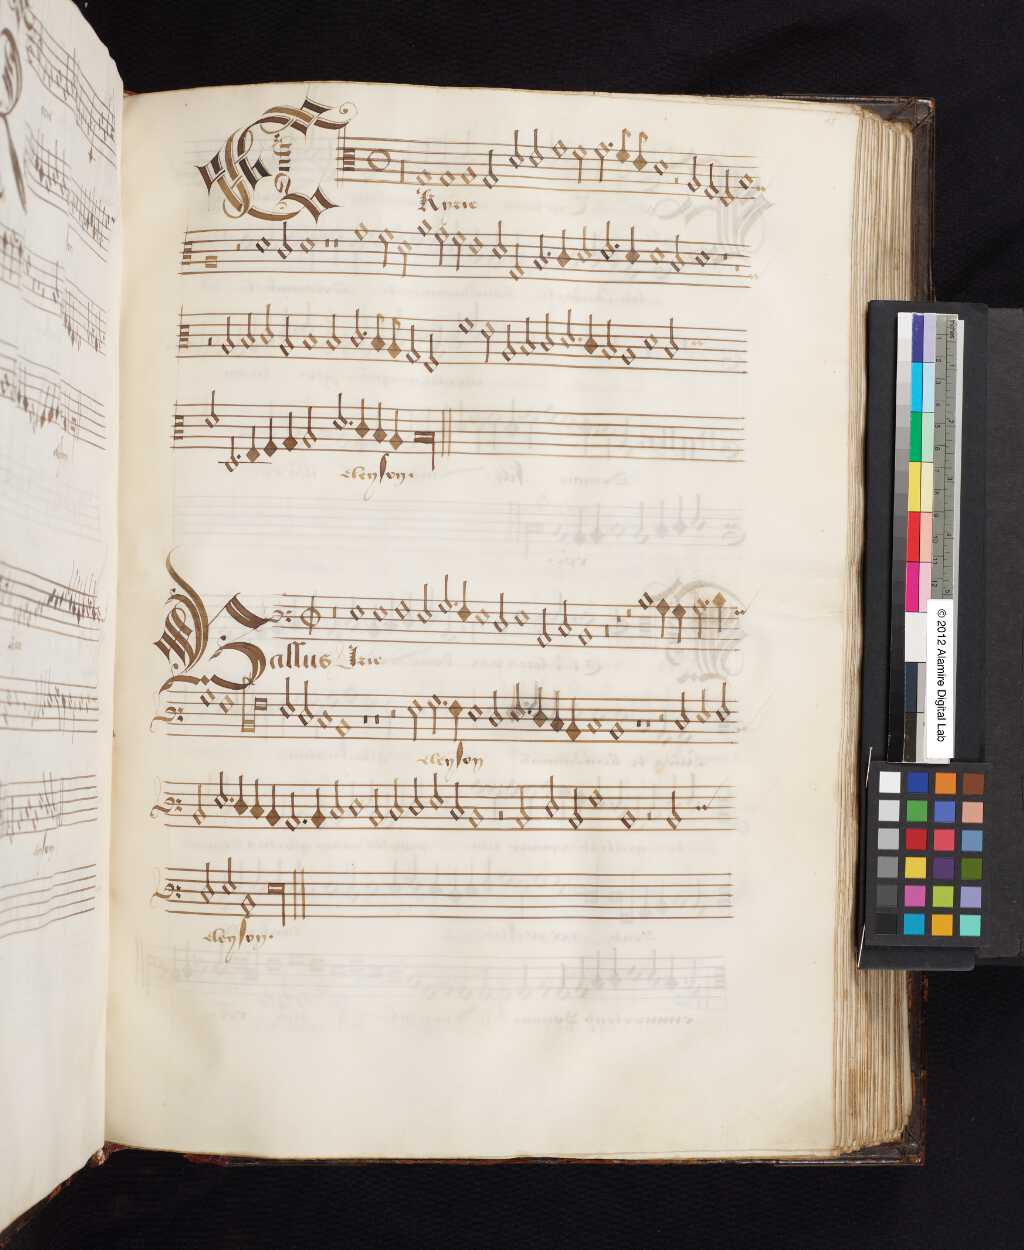custos_9: (729, 706, 757, 745)
f clef_7: (149, 692, 196, 744)
l1semibreve_9: (237, 677, 254, 740)
l2semibreve_5: (250, 689, 268, 737)
minim rest: (654, 686, 668, 752), (385, 682, 399, 746)
minim_4: (425, 684, 441, 740)
minim_5: (715, 673, 733, 731), (406, 688, 424, 745)
minim_6: (278, 668, 296, 724), (695, 680, 713, 729), (512, 674, 526, 730)
minim_7: (296, 671, 315, 732), (673, 681, 692, 738), (486, 680, 504, 734)
point: (519, 699, 534, 721), (437, 691, 450, 710)
semibreve rest: (369, 686, 383, 748), (358, 686, 372, 749), (631, 688, 644, 753), (642, 686, 654, 751)
semibreve_4: (196, 682, 217, 714)
semibreve_5: (217, 687, 238, 722)
semibreve_6: (465, 694, 486, 731)
semibreve_8: (583, 707, 605, 742), (315, 699, 335, 736)
semibreve_9: (332, 707, 355, 746), (605, 711, 627, 750)
semiminim_5: (452, 698, 465, 748)
semiminim_7: (532, 680, 548, 735)
semiminim_8: (548, 684, 564, 740)
semiminim_9: (565, 691, 583, 748)
